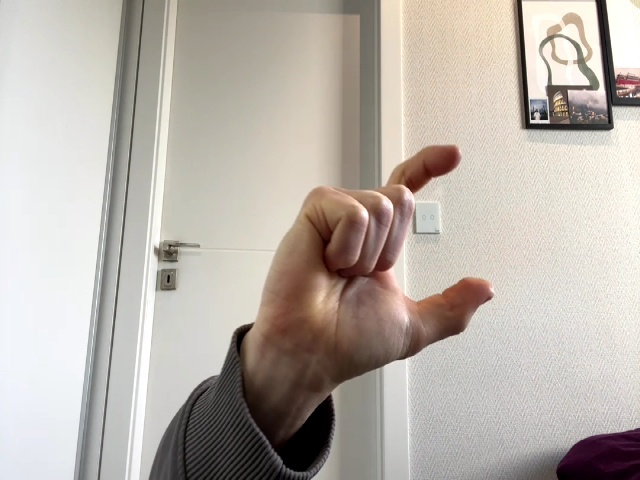C: (256, 145, 494, 393)
